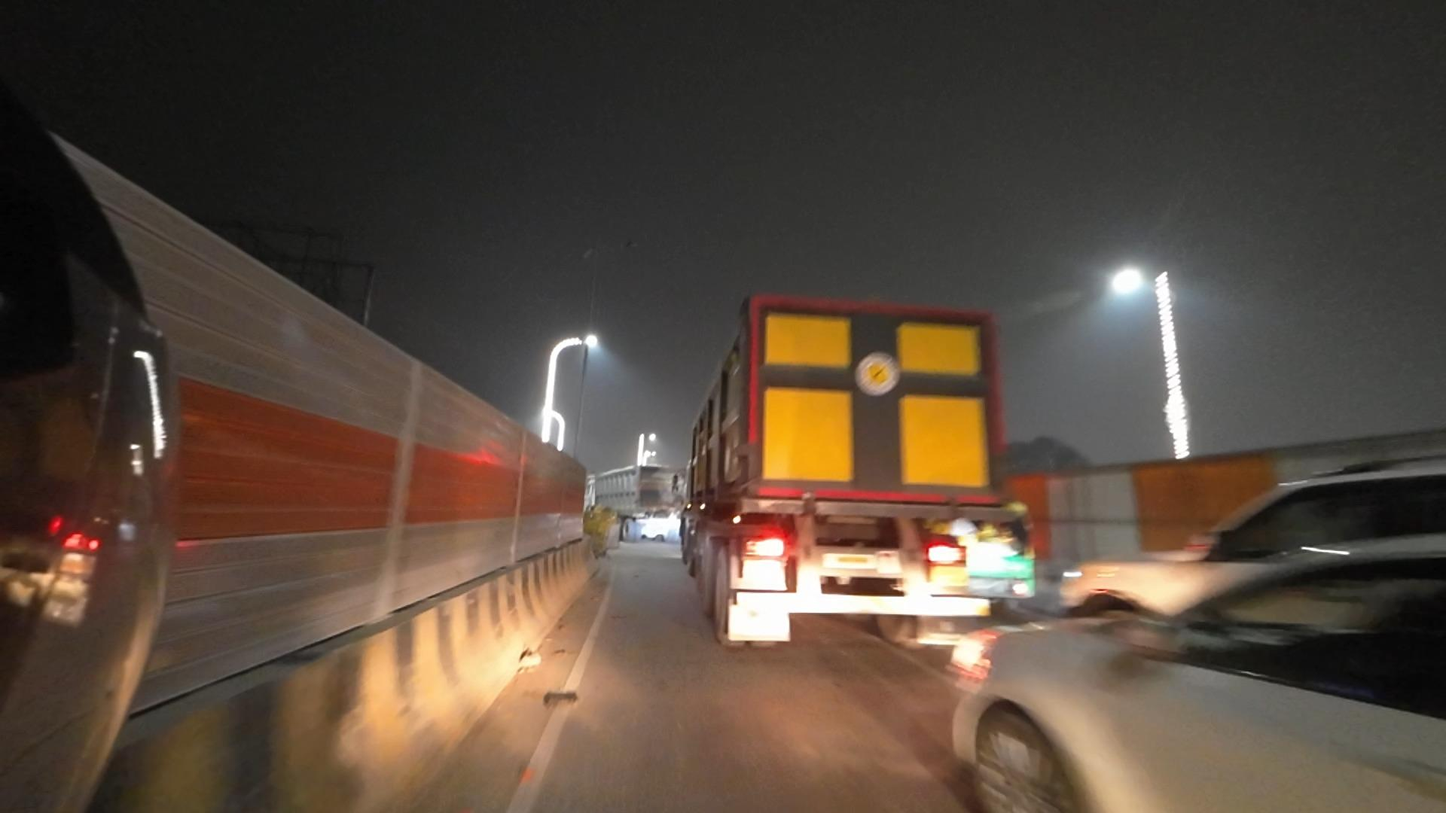streetlight: (595, 238, 641, 252)
